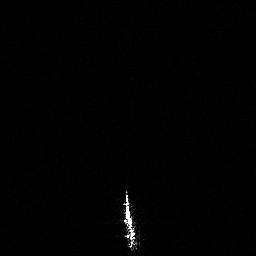ship: (119, 187, 146, 253)
